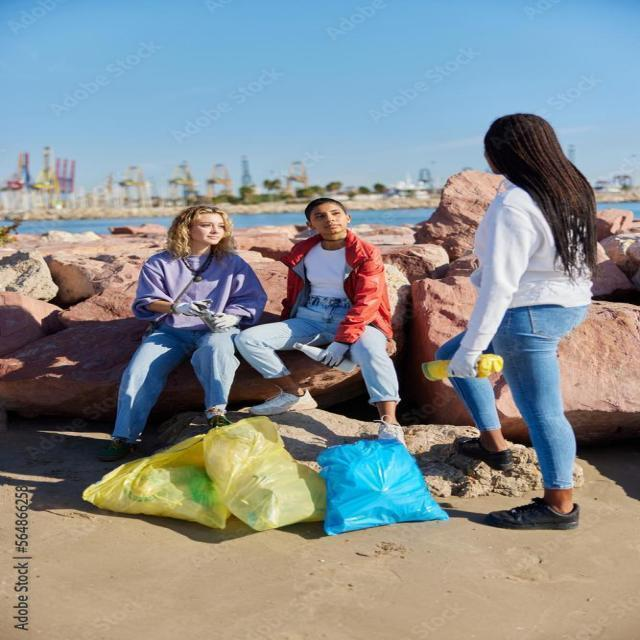Garbage_Bag: (312, 429, 446, 544)
